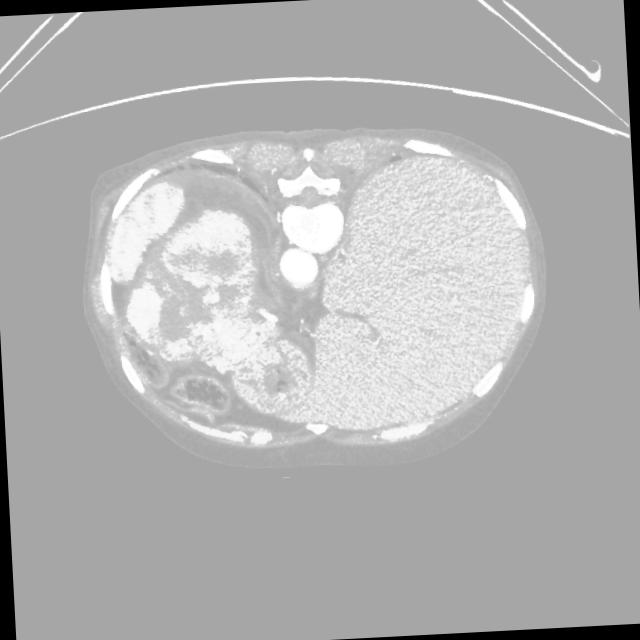TUMOR: (74, 161, 307, 401)
